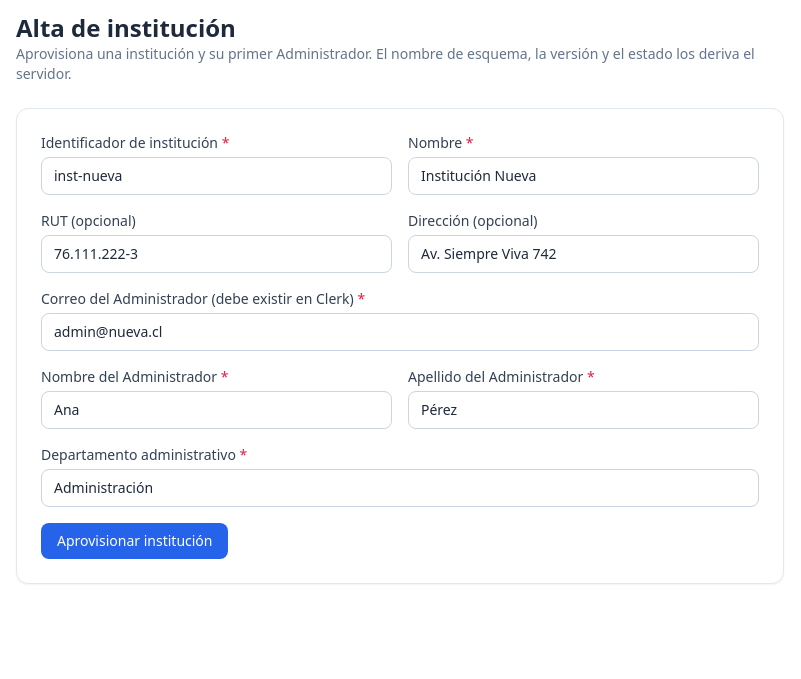
Scenario: AltaInstitucionComponent › AC-8: un 422 por correo inexistente en Clerk muestra el error real
Click the submit button: (135, 541) [41,523,228,559]
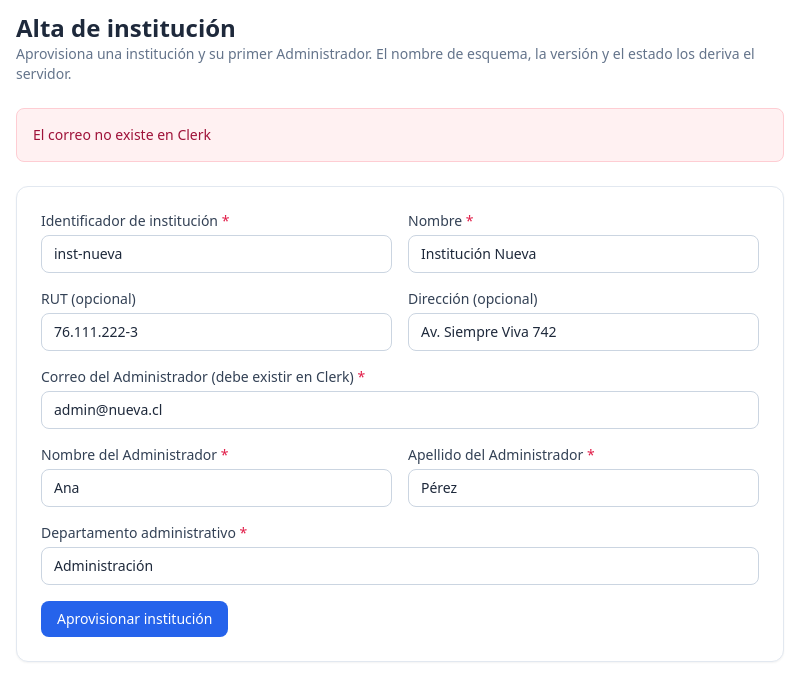
Now the message "El correo no existe en Clerk" is shown, box [16,108,784,162]
